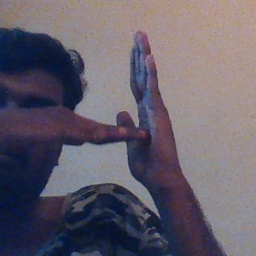Z: (77, 28, 188, 192)
